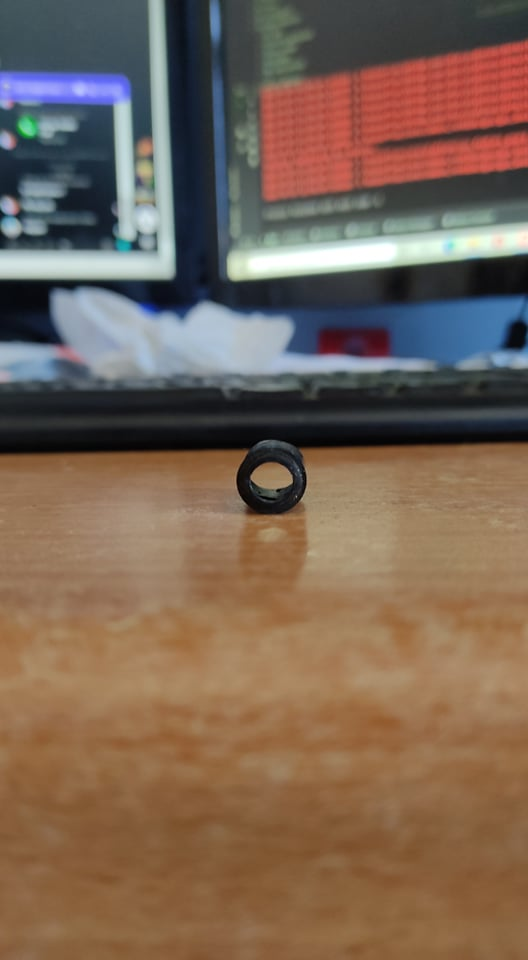black_bucking: (215, 425, 328, 529)
